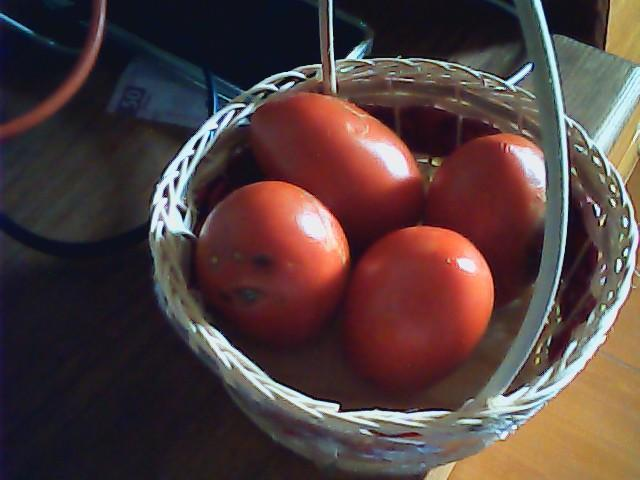defectuoso: (189, 181, 350, 349)
maduro: (249, 91, 422, 250), (337, 226, 495, 385), (424, 136, 555, 299)
